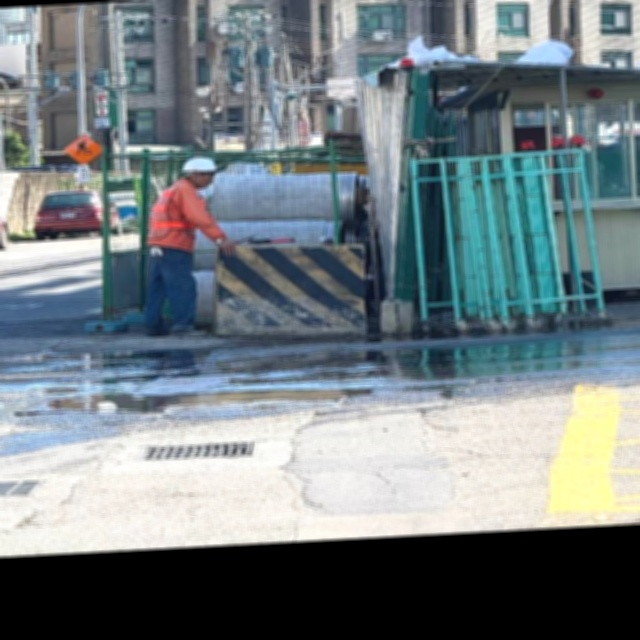Con_Casco: (178, 156, 219, 190)
Con_Chaleco: (143, 184, 207, 251)
